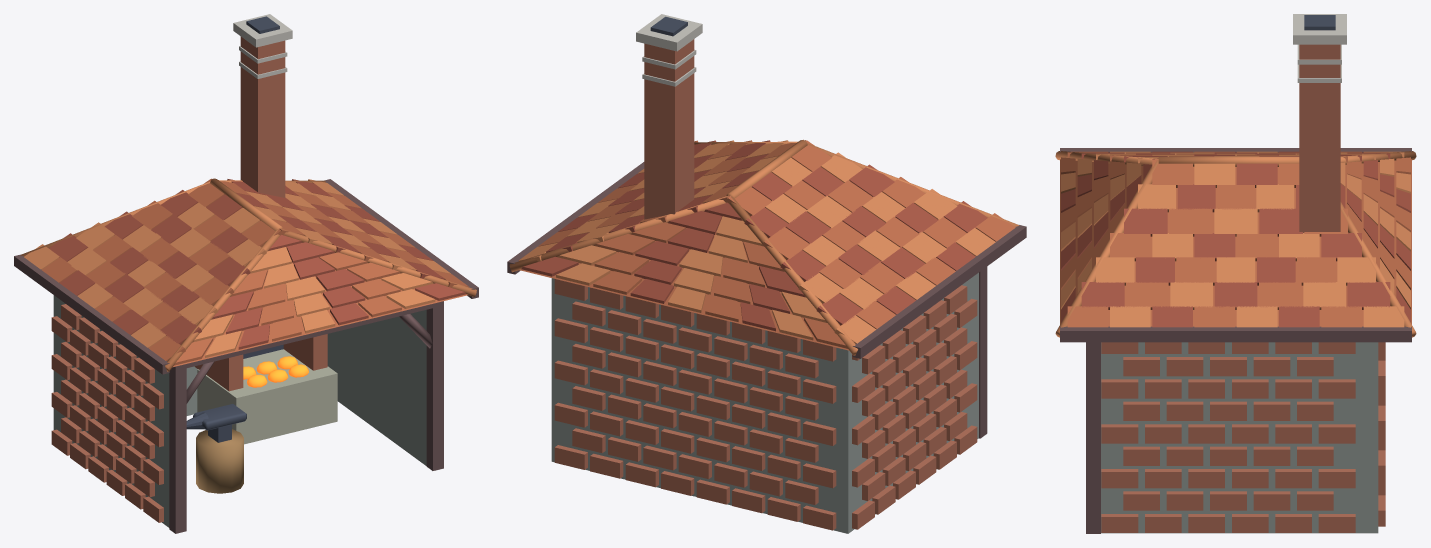
Rendered from smithy.glb.
3 renders of one model, left to right at view 1: azimuth 30°, elevation 25°; view 2: azimuth 150°, elevation 25°; view 3: azimuth 270°, elevation 25°, orthographic. The views are drawn at different scales.
Parts seen in each view (by area): view 1: Smithy_brick_wall, Smithy_hearth_base, Smithy_russet_chimney, Smithy_front_post, Smithy_front_post.001, Smithy_anvil_stump, Smithy_eave_fascia, Smithy_brick_wall.002, Smithy_front_beam, Smithy_hipped_roof, Smithy_hip_ridge, Smithy_hip_ridge.002 (+55 smaller); view 2: Smithy_brick_wall.001, Smithy_russet_chimney, Smithy_brick_wall.002, Smithy_eave_fascia, Smithy_hipped_roof, Smithy_front_post, Smithy_hip_ridge.001, Smithy_hip_ridge.003, Smithy_chimney_cap, Smithy_eave_fascia.001, Smithy_roof_ridge, Smithy_hip_end_slate.047 (+129 smaller); view 3: Smithy_brick_wall, Smithy_russet_chimney, Smithy_eave_fascia.001, Smithy_hipped_roof, Smithy_front_post.001, Smithy_brick_wall.001, Smithy_eave_fascia, Smithy_chimney_cap, Smithy_roof_ridge, Smithy_hip_slate.024, Smithy_hip_slate.025, Smithy_hip_slate.023 (+92 smaller).
Boxes of the visible parts, bbox=[...] form: Smithy_brick_wall: bbox=[327, 310, 426, 465]; Smithy_hearth_base: bbox=[197, 349, 337, 444]; Smithy_russet_chimney: bbox=[240, 36, 285, 197]; Smithy_front_post: bbox=[169, 364, 186, 533]; Smithy_front_post.001: bbox=[426, 303, 443, 470]; Smithy_anvil_stump: bbox=[196, 429, 243, 493]; Smithy_eave_fascia: bbox=[14, 254, 169, 374]; Smithy_brick_wall.002: bbox=[53, 299, 169, 527]; Smithy_front_beam: bbox=[172, 301, 443, 370]; Smithy_hipped_roof: bbox=[173, 247, 467, 366]; Smithy_hip_ridge: bbox=[165, 229, 280, 371]; Smithy_hip_ridge.002: bbox=[280, 228, 476, 296]; Smithy_brick_wall.001: bbox=[551, 278, 854, 533]; Smithy_russet_chimney: bbox=[644, 39, 694, 219]; Smithy_brick_wall.002: bbox=[837, 272, 978, 533]; Smithy_eave_fascia: bbox=[852, 225, 1026, 358]; Smithy_hipped_roof: bbox=[519, 216, 848, 350]; Smithy_front_post: bbox=[979, 266, 987, 438]; Smithy_hip_ridge.001: bbox=[729, 196, 857, 355]; Smithy_hip_ridge.003: bbox=[509, 195, 728, 272]; Smithy_chimney_cap: bbox=[636, 14, 702, 51]; Smithy_eave_fascia.001: bbox=[507, 162, 644, 274]; Smithy_roof_ridge: bbox=[726, 139, 807, 198]; Smithy_hip_end_slate.047: bbox=[635, 241, 688, 265]; Smithy_brick_wall: bbox=[1101, 342, 1378, 533]; Smithy_russet_chimney: bbox=[1299, 44, 1340, 232]; Smithy_eave_fascia.001: bbox=[1060, 326, 1411, 342]; Smithy_hipped_roof: bbox=[1060, 159, 1411, 326]; Smithy_front_post.001: bbox=[1086, 342, 1100, 533]; Smithy_brick_wall.001: bbox=[1365, 342, 1378, 533]; Smithy_eave_fascia: bbox=[1060, 148, 1411, 152]; Smithy_chimney_cap: bbox=[1293, 14, 1346, 44]; Smithy_roof_ridge: bbox=[1158, 156, 1299, 166]; Smithy_hip_slate.024: bbox=[1169, 208, 1212, 236]; Smithy_hip_slate.025: bbox=[1214, 208, 1257, 236]; Smithy_hip_slate.023: bbox=[1124, 208, 1167, 236].
Bounding box in the file's own units: 5.78 × 6.85 × 4.82.
